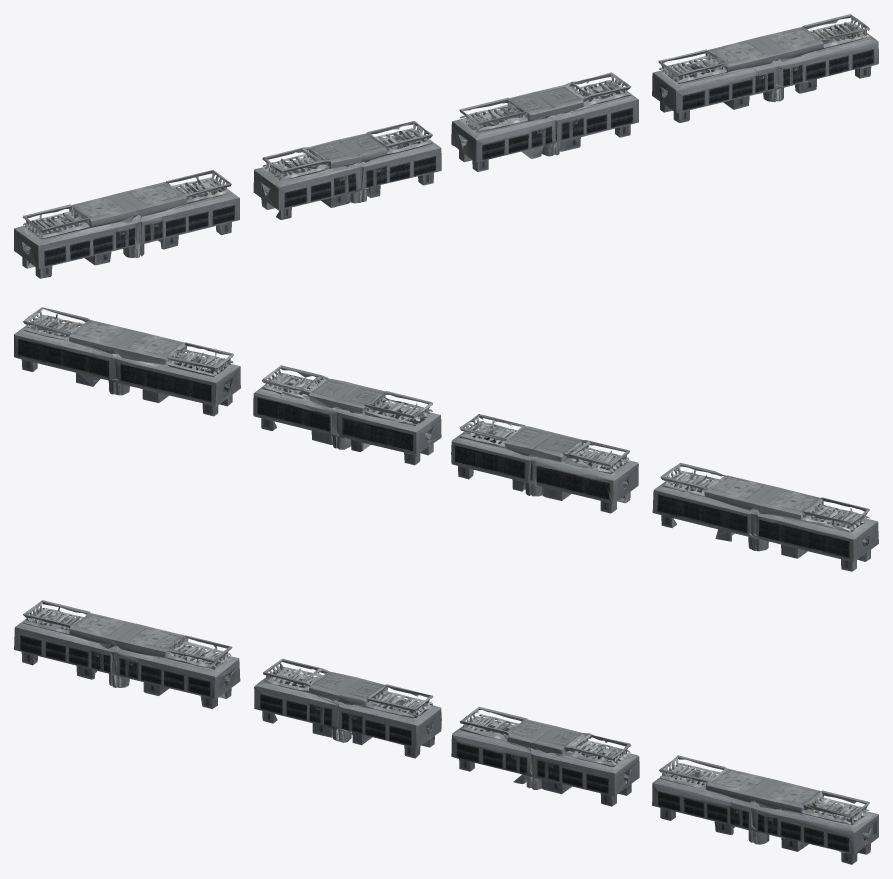
File: datacenter-large.glb
The picture shows the model from 3 angles, top to bottom: view 1: azimuth 30°, elevation 25°; view 2: azimuth 150°, elevation 25°; view 3: azimuth 330°, elevation 25°; orthographic projection.
Bounding box in the file's own units: 1.9 × 0.1085 × 0.1028.
1 material, 1 textured.
